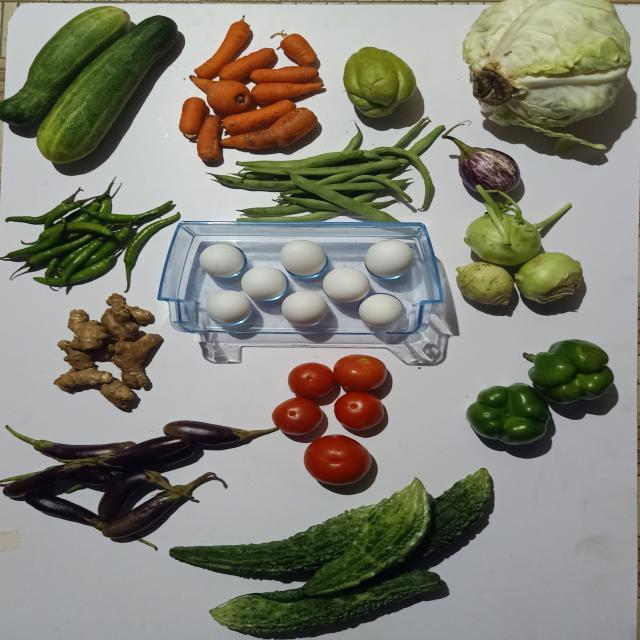Beans: (289, 172, 399, 221), (374, 146, 434, 210), (280, 195, 346, 211), (322, 181, 385, 190)
Bitter Gourd: (300, 479, 430, 597), (209, 571, 442, 636), (169, 506, 376, 578), (415, 469, 491, 557)
Brinjal: (101, 491, 175, 539), (103, 435, 190, 469), (162, 421, 278, 446), (1, 464, 81, 499), (97, 471, 147, 521)
Capsicum: (467, 383, 551, 445)
Carrot: (220, 107, 317, 148), (222, 99, 295, 135), (178, 96, 208, 137), (196, 114, 221, 161)
Chayote: (343, 46, 416, 116)
Cucumber: (35, 14, 176, 163), (0, 5, 132, 125)
Egg: (365, 239, 414, 278), (280, 240, 326, 276), (322, 268, 370, 302), (281, 291, 327, 326), (206, 290, 251, 325), (241, 267, 287, 301), (198, 244, 244, 277), (359, 294, 403, 326)
Eggplant: (442, 135, 521, 192)
Ginger: (108, 334, 162, 389), (66, 310, 107, 351), (52, 368, 111, 390), (99, 380, 134, 409)
Green Chilly: (123, 212, 180, 292), (88, 200, 172, 224), (66, 255, 114, 283), (64, 221, 113, 236)
Tomato: (304, 435, 371, 486), (333, 355, 386, 393), (271, 397, 322, 436), (334, 392, 383, 431), (287, 363, 334, 399)
Turnip: (457, 253, 583, 305), (465, 185, 541, 265)
